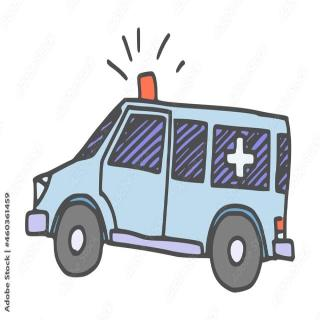Ambulance: (24, 19, 301, 297)
